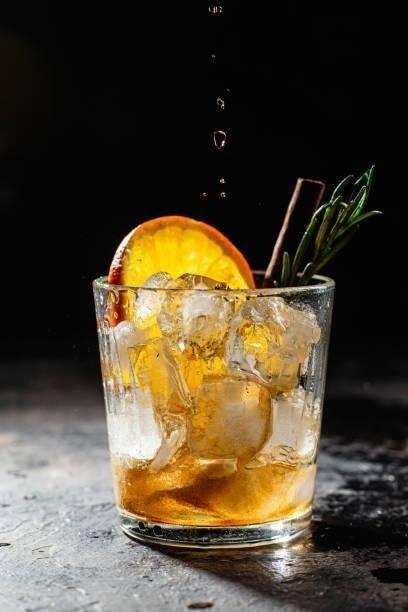glass-normal: (90, 268, 337, 552)
